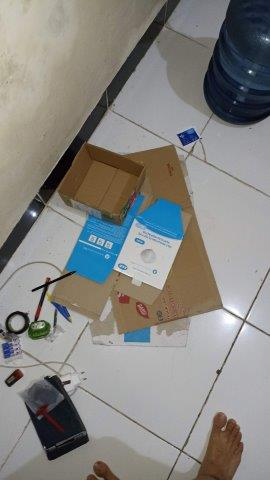kardus: (54, 146, 222, 340), (63, 143, 146, 225)
